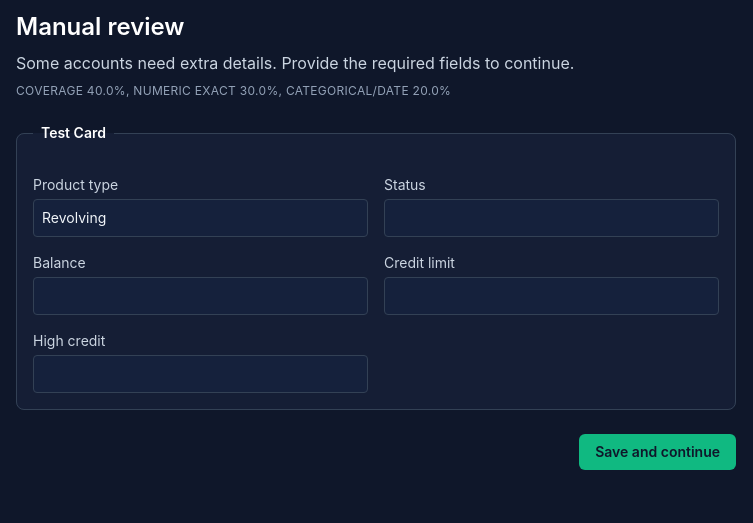
Test: ManualReviewRoute › validates required fields before submission
This screenshot has width=753, height=523.
Click the button "Save and continue" at (658, 452), box [579,434,736,470]
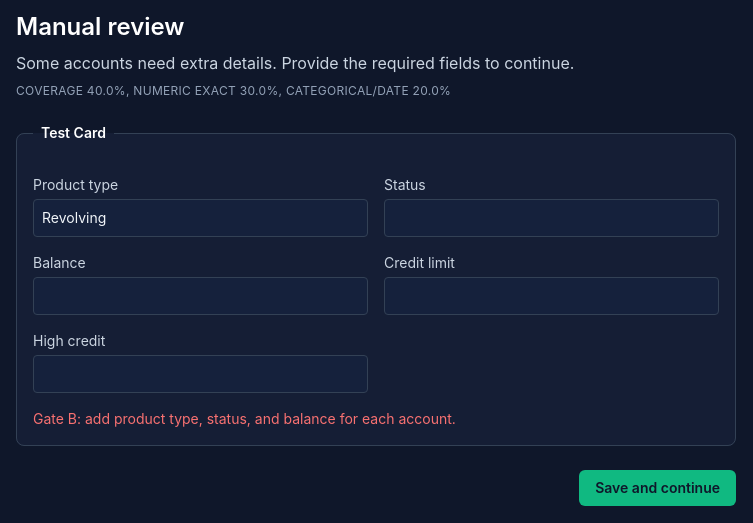
expect the text "Gate B" is shown: met, box [33,410,456,427]
